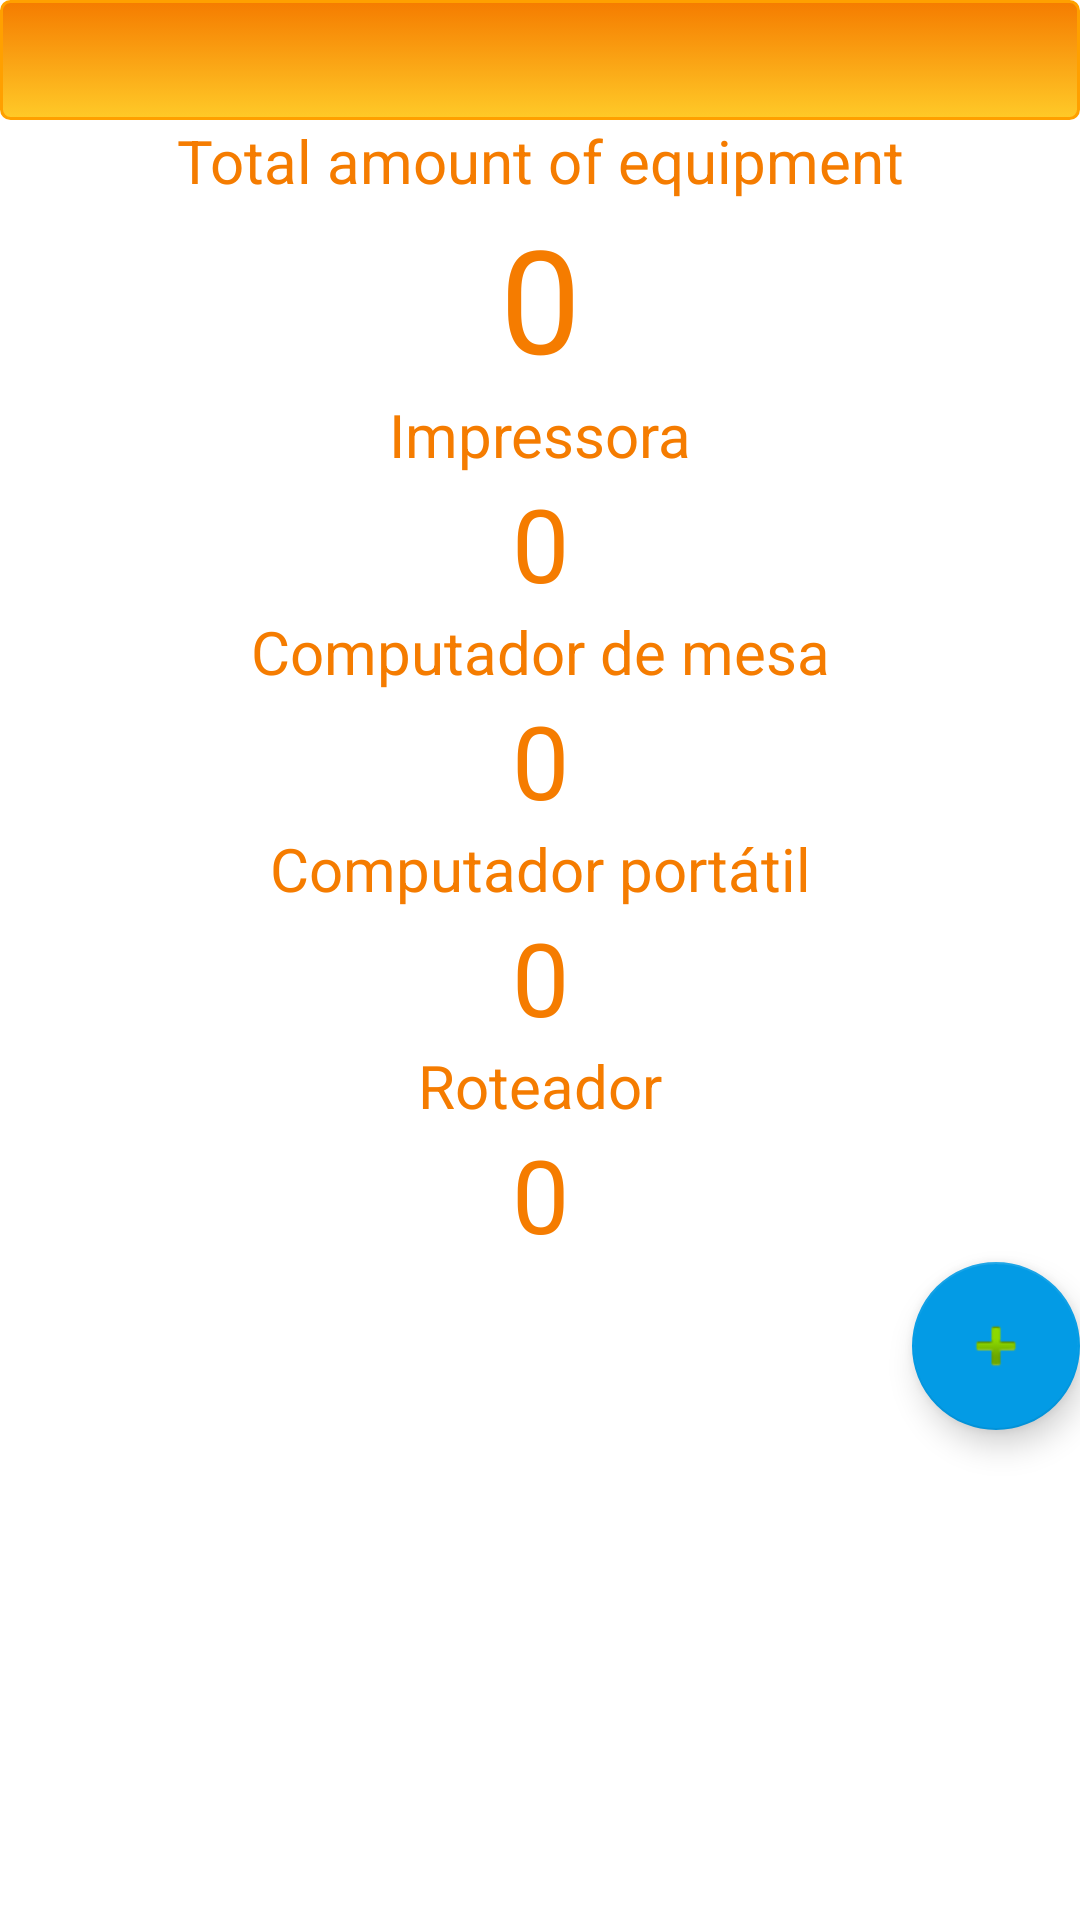

Screen size 1080*1920. Icon name, then its center in pixels as (x=x, y=y):
add: (x=996, y=1346)
